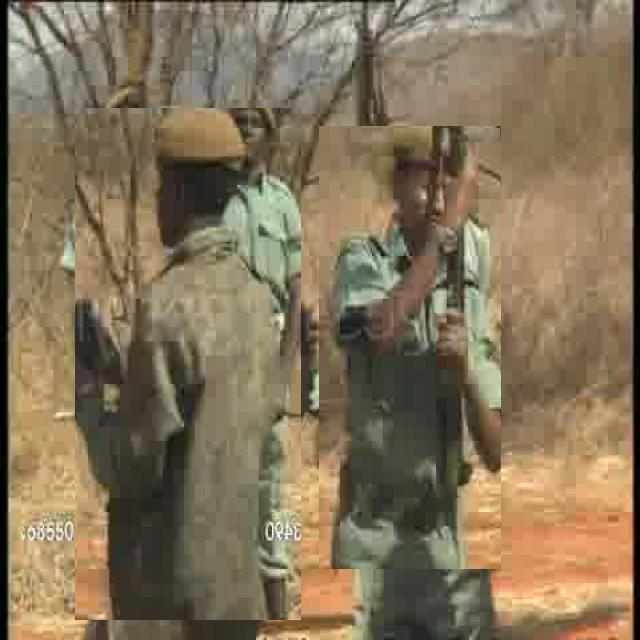poacher: (75, 109, 301, 620), (319, 126, 501, 569), (97, 80, 136, 242)
weapon: (349, 29, 374, 484)
